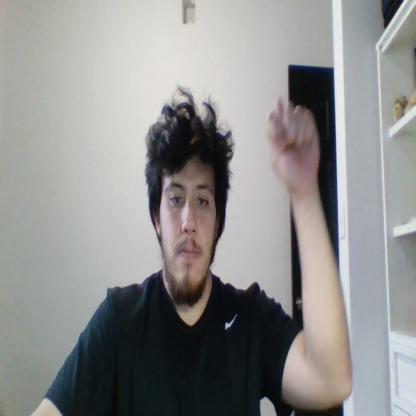T: (266, 96, 320, 190)
